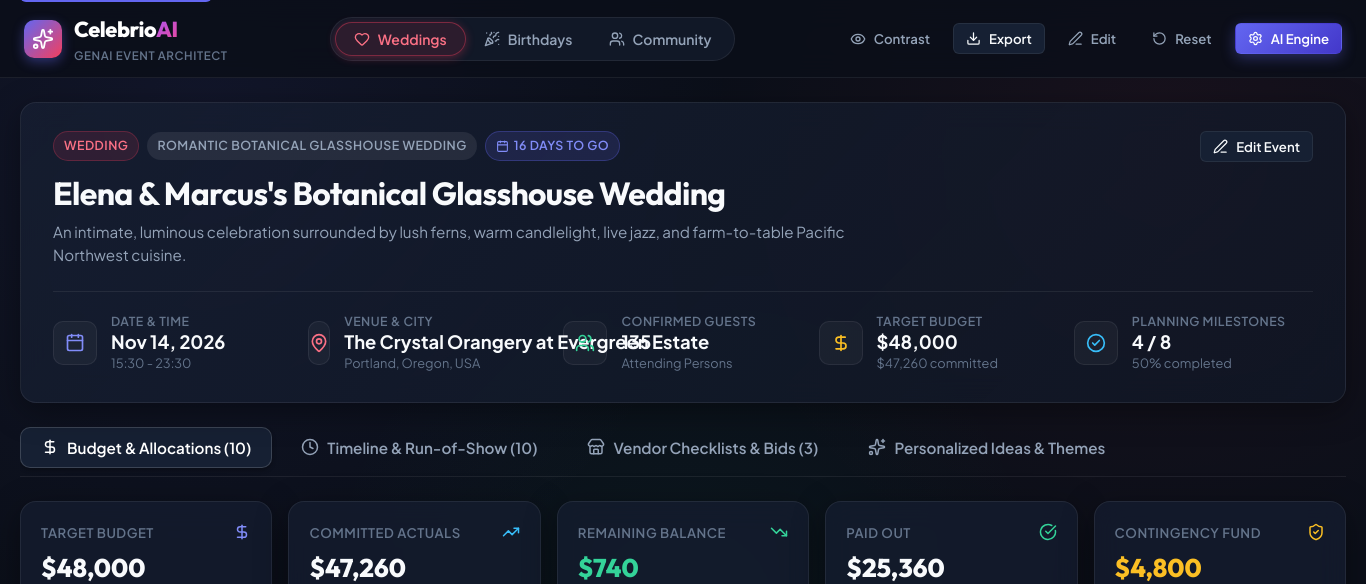
Scenario: UI Components & Interaction Suite › switches between planning section tabs (Budget, Timeline, Vendors, Ideas)
Click the tab "Timeline & Run-of-Show (10)".
click(419, 447)  # box [280, 427, 558, 468]
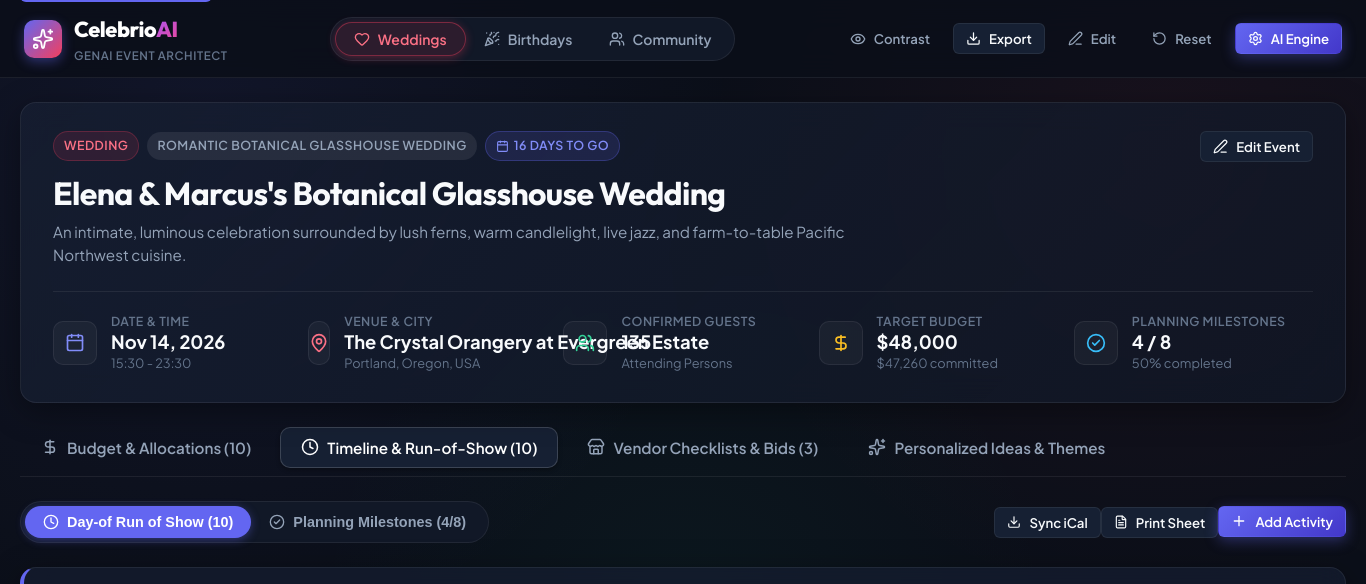
Expected: the text "Day-of Run of Show (10)" is shown, [67, 514, 233, 530]
Click the tab "Vendor Checklists & Bids (3)".
click(703, 447)  # box [566, 427, 839, 468]
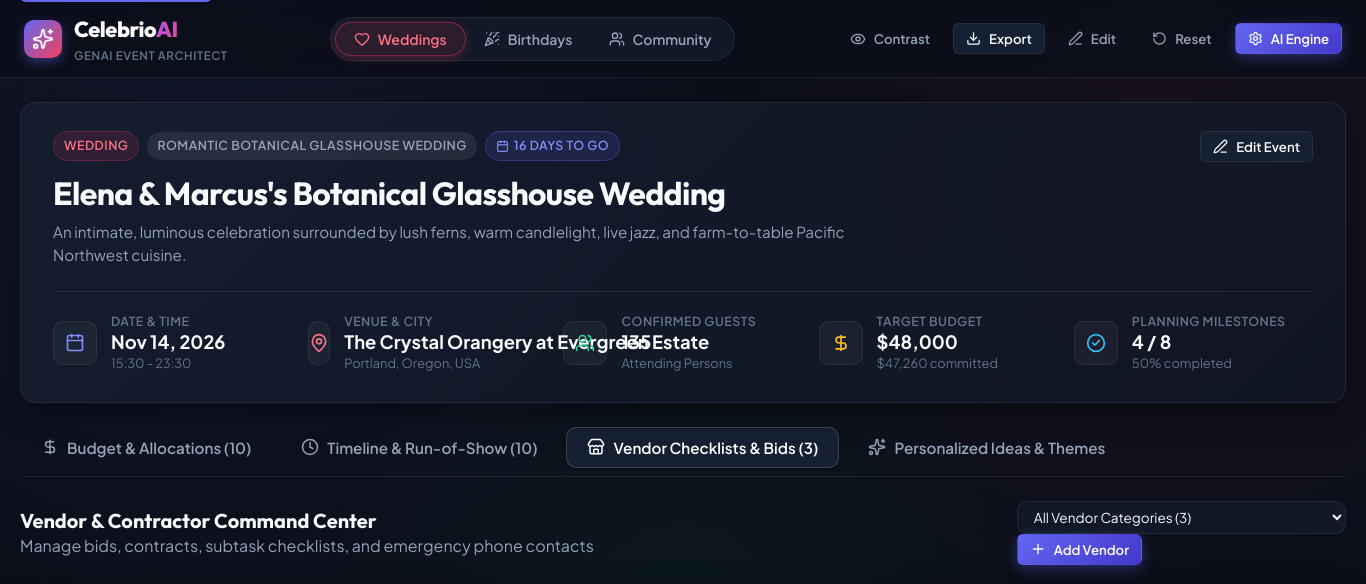
Expected: the heading "Vendor & Contractor Command Center" is shown, [20, 508, 377, 533]
Click the tab "Personalized Ideas & Themes".
click(987, 447)  # box [847, 427, 1126, 468]
(page scrolled)
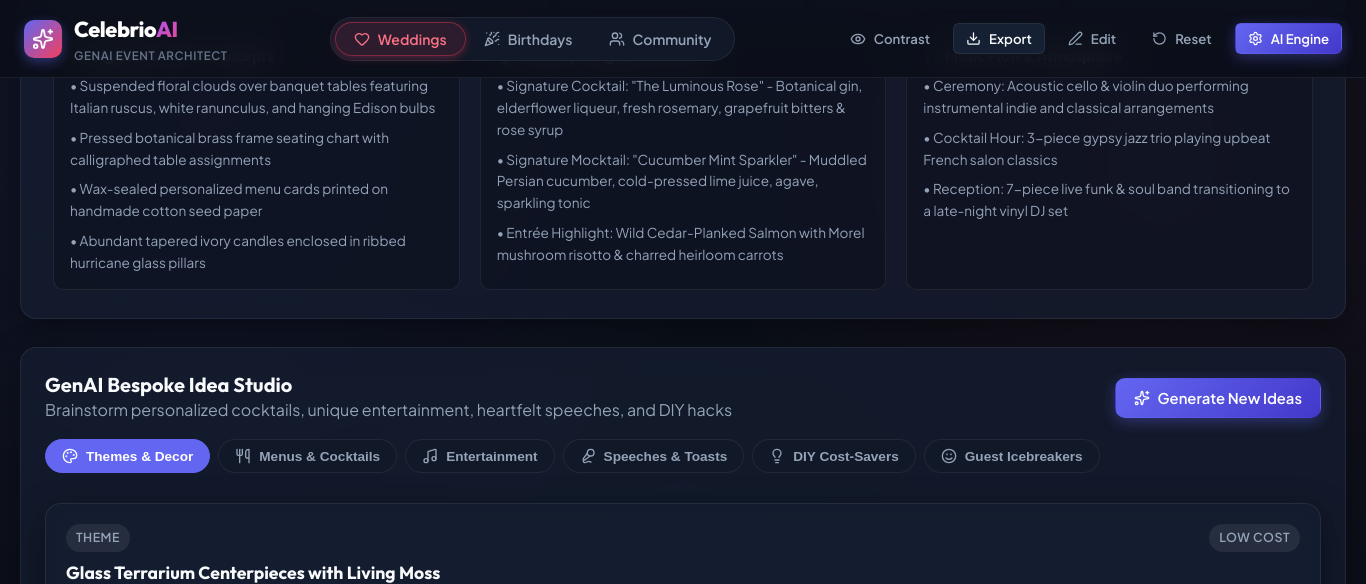
Expected: the heading "GenAI Bespoke Idea Studio" is shown, [45, 372, 292, 397]
